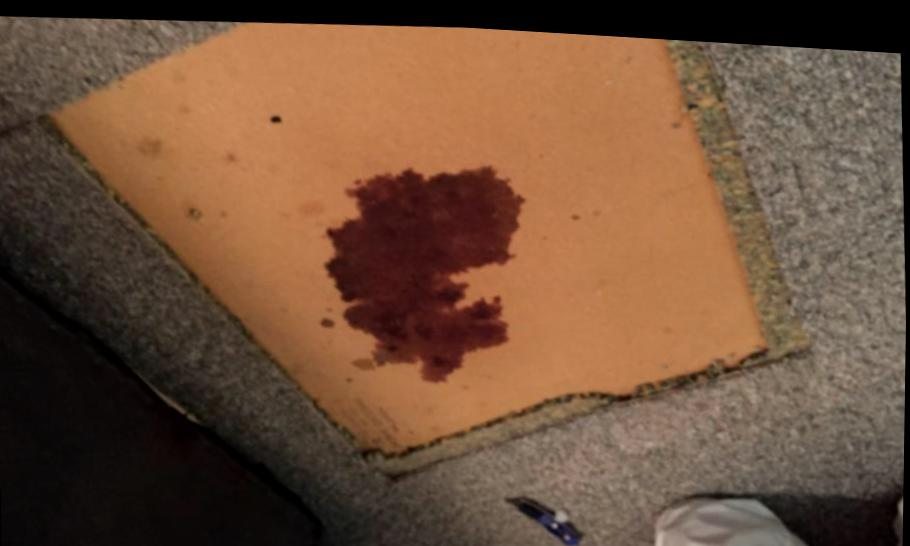Fire: (324, 160, 526, 377)
